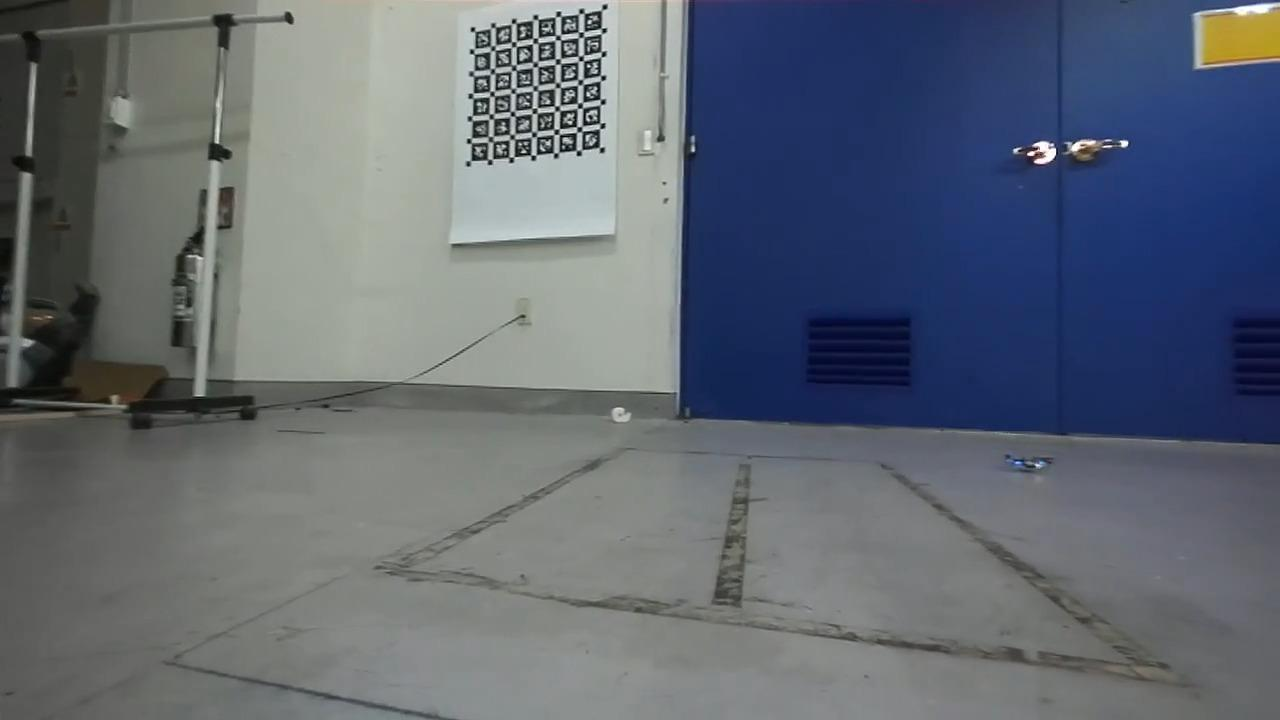crazyflie: (996, 448, 1064, 478)
